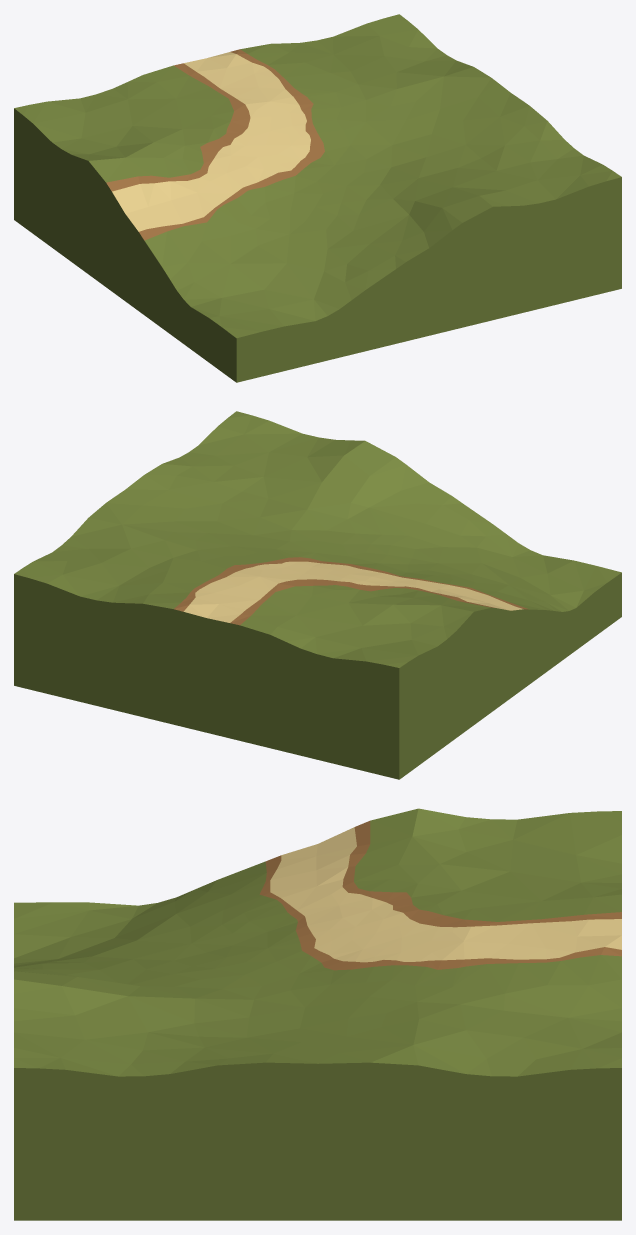
Rendered from Terrian_Road_Bend_HillDip-02.fbx.
3 renders of one model, top to bottom at view 1: azimuth 30°, elevation 25°; view 2: azimuth 150°, elevation 25°; view 3: azimuth 270°, elevation 25°, orthographic. The views are drawn at different scales.
Parts seen in each view (by area): view 1: Terrian_Road_Bend_HillDip-02; view 2: Terrian_Road_Bend_HillDip-02; view 3: Terrian_Road_Bend_HillDip-02.
Part boxes in pixels (x1,y1,x2,y2): Terrian_Road_Bend_HillDip-02: (14, 14, 621, 382); Terrian_Road_Bend_HillDip-02: (14, 411, 621, 779); Terrian_Road_Bend_HillDip-02: (14, 808, 621, 1220).
Size of the model in its own units: 3600 by 1050 by 3600.
Materials: 1 (1 with a texture image).
